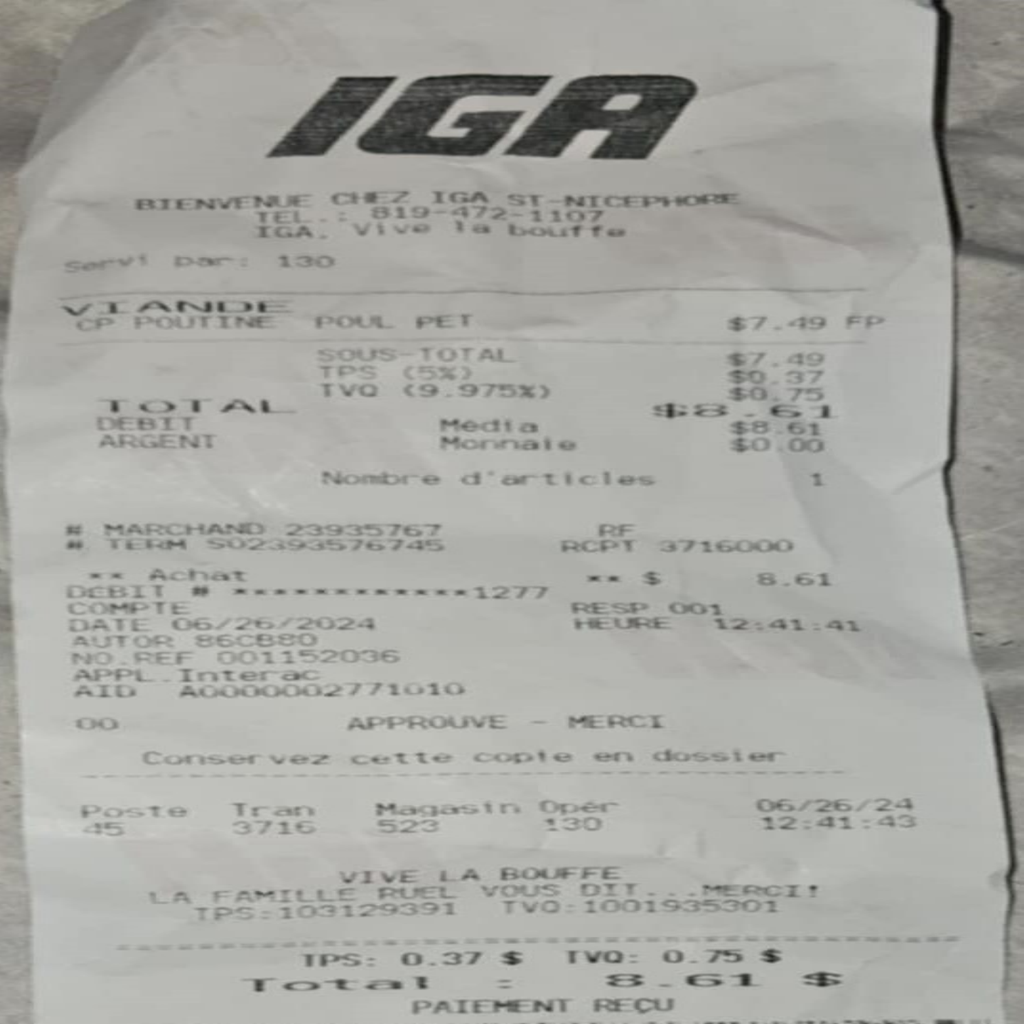recipt: (8, 6, 1011, 1011)
